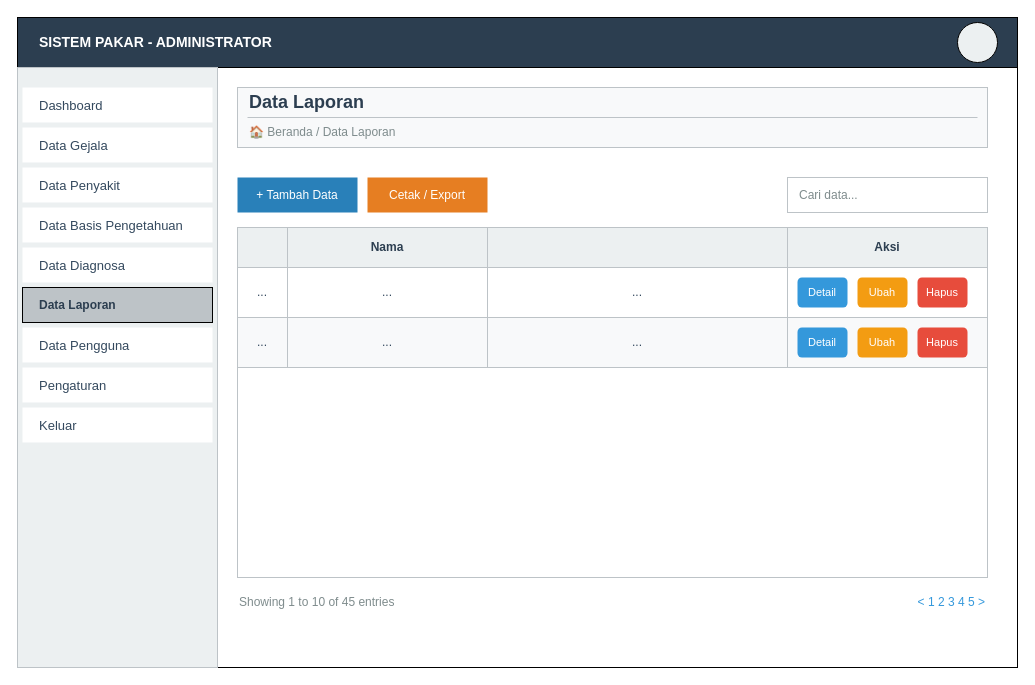
The diagram is 1035 pixels wide and 685 high, and some of its shapes have lost their labels. The shapes that lost their labels are listed below. From the top down, each one's centre as x and y in pixels, then its label:
At point (977, 42): "Admin".
At point (262, 247): "NO".
At point (637, 247): "Keterangan".
